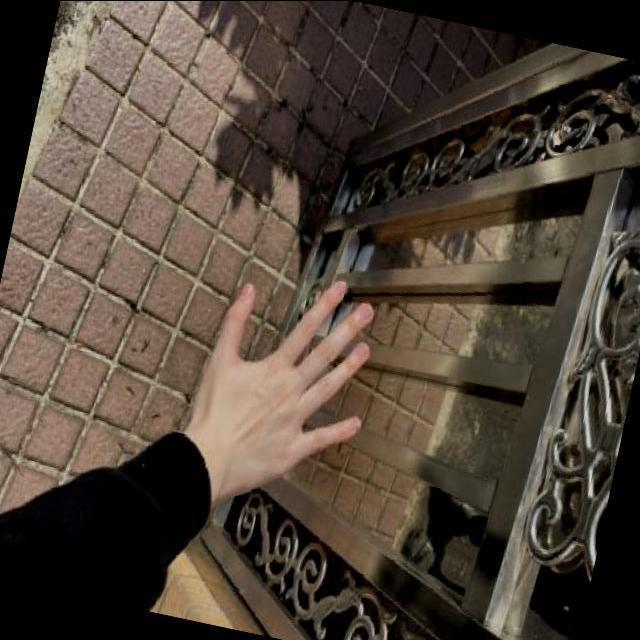hand: (170, 247, 410, 526)
